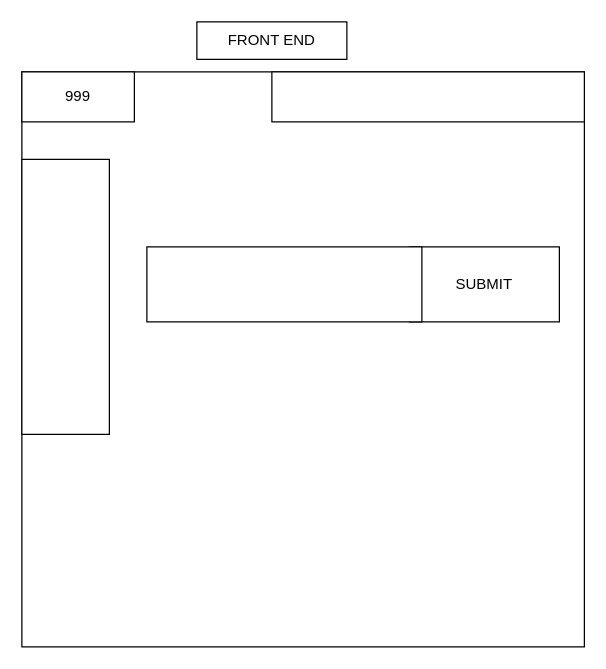
The diagram is 606 pixels wide and 669 high, and some of its shapes have lost their labels. The shapes that lost their labels are listed below. From the top down, each one's box as (x1, y1, x2, y2) in pixels, then its label:
(271, 71, 584, 122): Search | CONTACT | THANKS
(21, 158, 109, 434): ERAS: JW3 etc.
